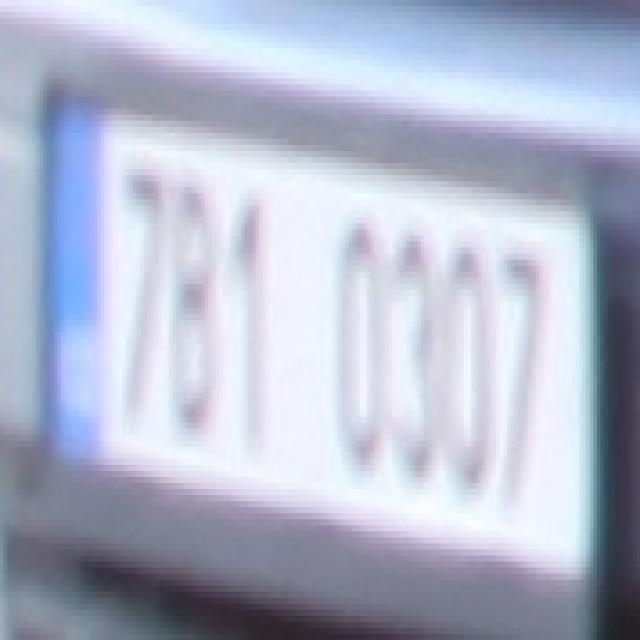0: (331, 211, 385, 477), (440, 236, 494, 501)
1: (225, 184, 275, 456)
3: (388, 223, 435, 489)
7: (111, 157, 162, 429), (496, 242, 547, 513)
B: (165, 169, 223, 441)
